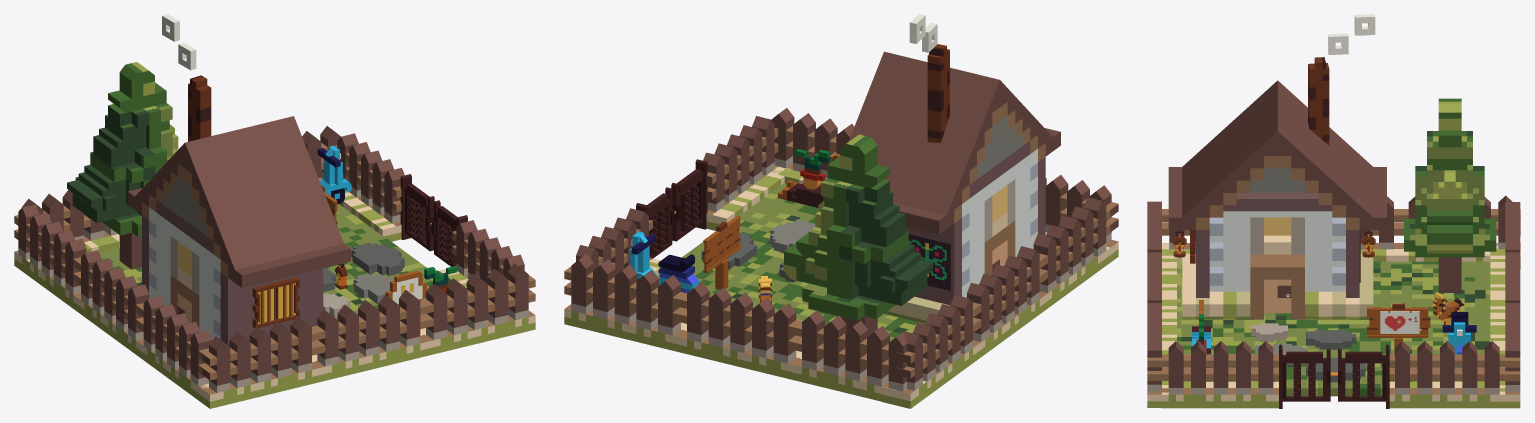
File: farmhouse.glb
3 renders of one model, left to right at view 1: azimuth 30°, elevation 25°; view 2: azimuth 150°, elevation 25°; view 3: azimuth 270°, elevation 25°, orthographic. The views are drawn at different scales.
Visible parts, largest first — view 1: house, Fance-left, Fance-back, tree, generated(Clone).001, grass, wooden-door, Fance-right, floor, generated(Clone).002, chimney, window (+2 smaller); view 2: house, Fance-right, tree, Fance-back, grass, Fance-left, generated(Clone).002, wooden-door, chimney, generated(Clone).001, moto-cycle-blue, my_sign (+3 smaller); view 3: house, grass, tree, generated(Clone).002, generated(Clone).001, Fance-right, Fance-left, wooden-door, Fance-back, chimney, floor, my_sign (+4 smaller).
Part boxes in pixels (x1,y1,x2,y2): house: (127,116,351,345); Fance-left: (194,263,535,408); Fance-back: (14,204,211,396); tree: (67,62,178,269); generated(Clone).001: (334,133,404,241); grass: (99,204,432,319); wooden-door: (400,174,467,266); Fance-right: (15,126,340,262); floor: (323,242,404,317); generated(Clone).002: (439,220,524,287); chimney: (162,14,211,141); window: (252,277,299,327); house: (823,51,1060,323); Fance-right: (564,254,926,401); tree: (784,134,933,336); Fance-back: (881,197,1110,408); grass: (657,183,924,341); Fance-left: (771,108,1118,268); generated(Clone).002: (703,116,790,230); wooden-door: (636,159,707,258); chimney: (909,14,949,143); generated(Clone).001: (576,208,660,275); moto-cycle-blue: (628,231,698,293); my_sign: (703,215,741,289); house: (1168,80,1386,319); grass: (1177,261,1490,396); tree: (1404,98,1496,292); generated(Clone).002: (1161,341,1278,408); generated(Clone).001: (1389,341,1507,408); Fance-right: (1490,202,1520,408); Fance-left: (1147,201,1176,407); wooden-door: (1279,344,1389,408); Fance-back: (1162,195,1520,268); chimney: (1308,14,1375,145); floor: (1251,323,1365,382); my_sign: (1367,303,1430,354).
Size of the model in its own units: 12.41 by 10.54 by 12.87.
Materials: 82 (5 with a texture image).
